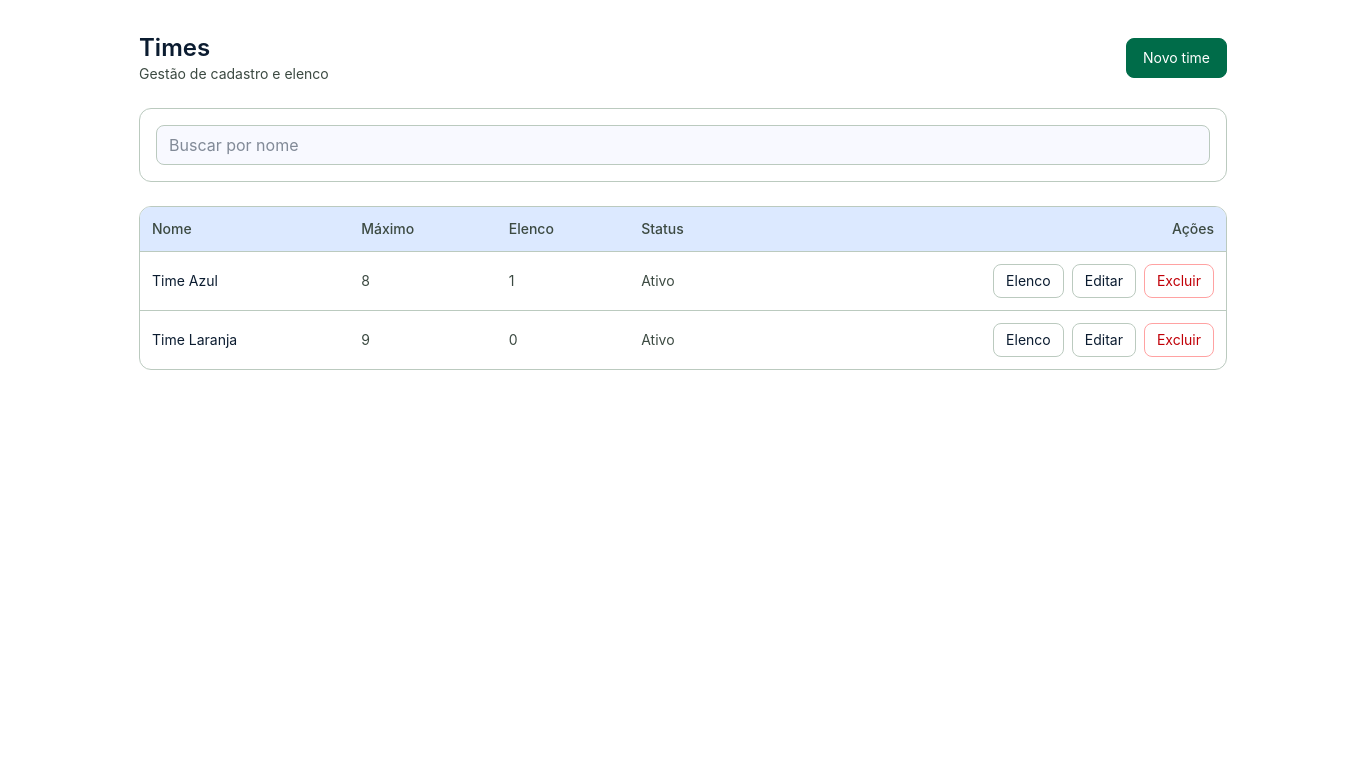
Test case: TeamsPage › deve bloquear submit com dados inválidos do formulário
The width and height of the screenshot is (1366, 768).
Click the button "Novo time".
click(1176, 58)  # box [1126, 38, 1227, 78]
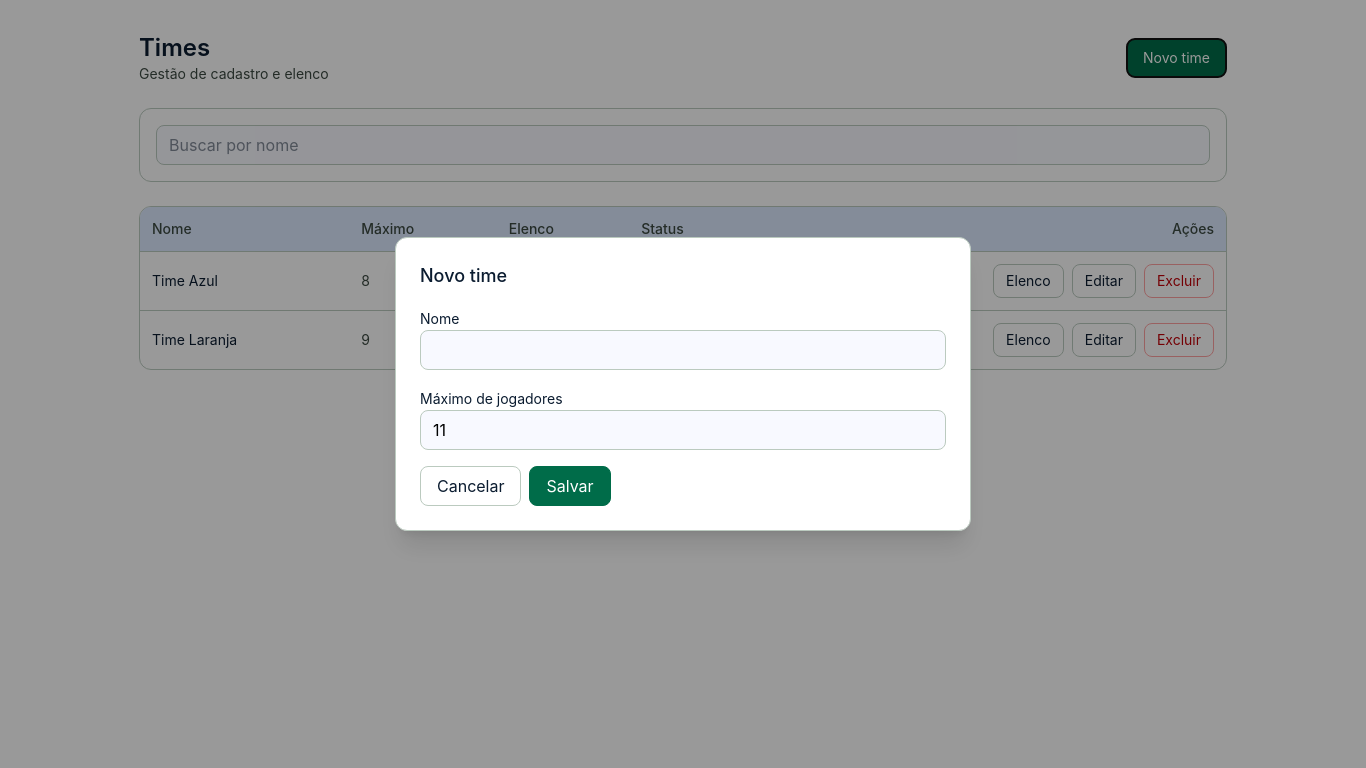
Type "Time Inválido" into the field labelled "Nome".
click(683, 350); type("Time Inválido")  # box [420, 330, 946, 370]
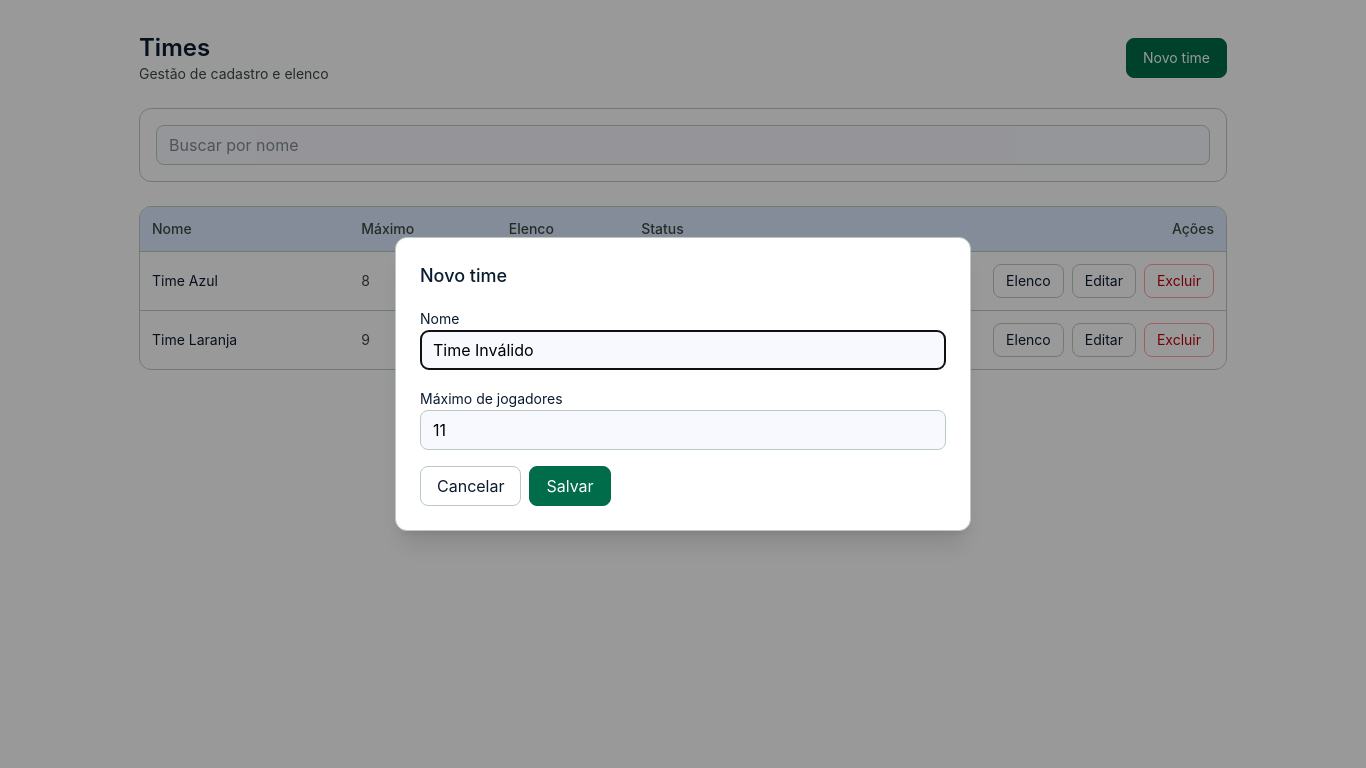
Replace the text in the number field labelled "Máximo de jogadores" with "0" at (683, 430), box [420, 410, 946, 450]
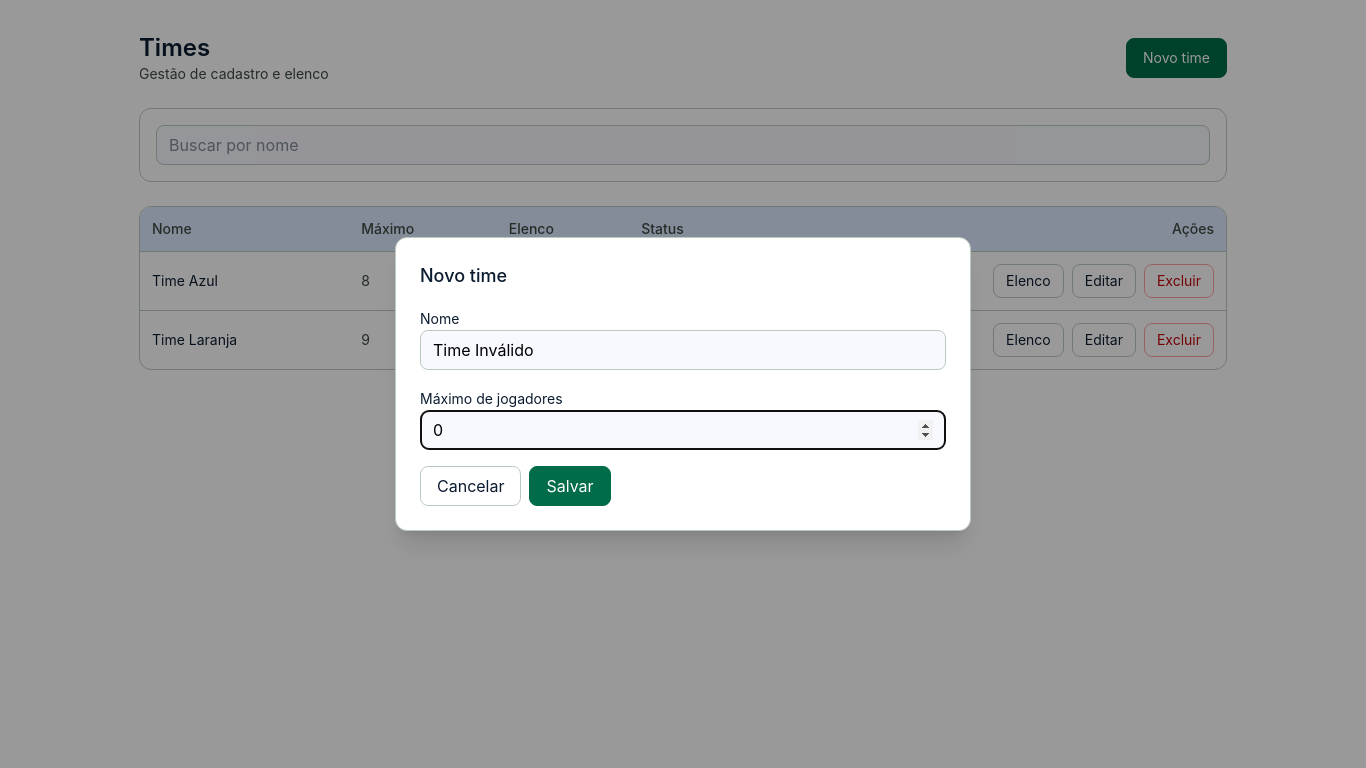
Click the button "Salvar".
click(570, 486)  # box [530, 466, 611, 506]
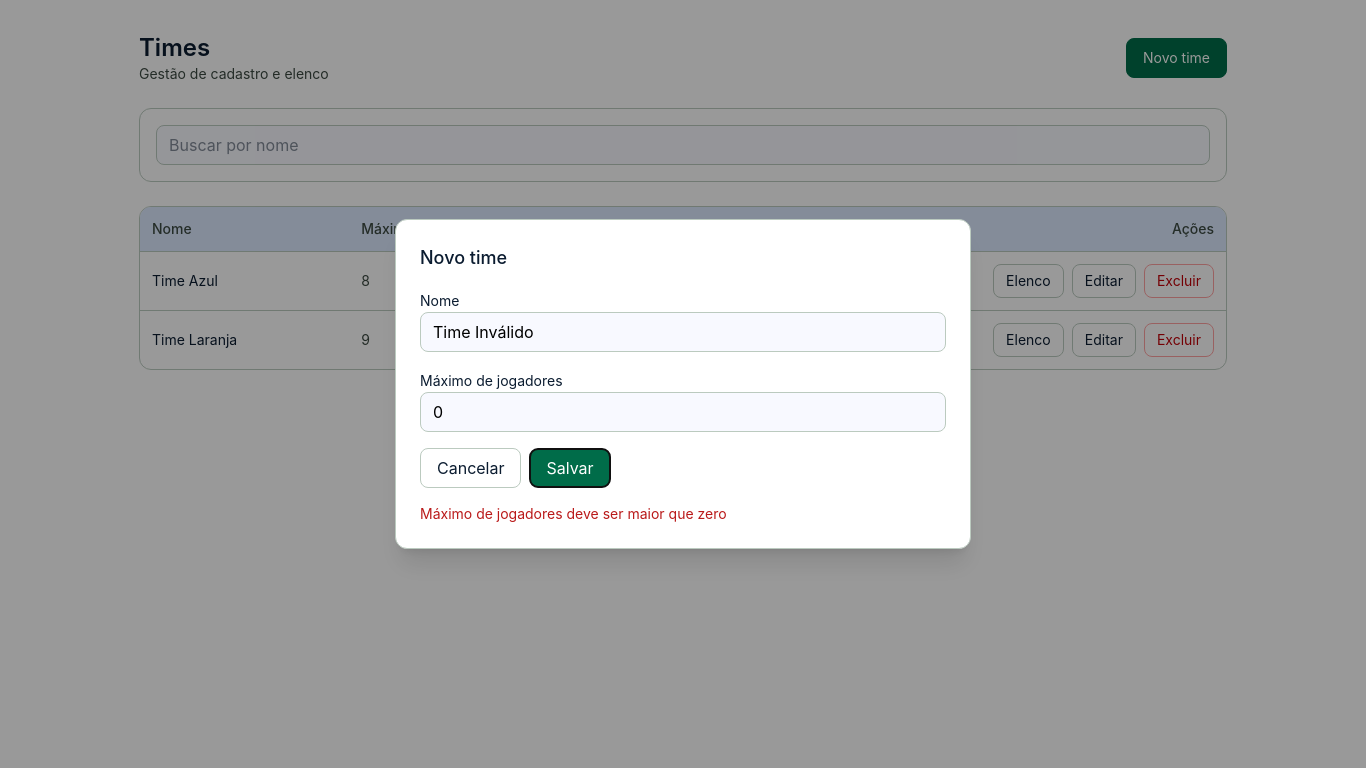
Now the text "Máximo de jogadores deve ser maior que zero" is shown, box [420, 505, 727, 522]
